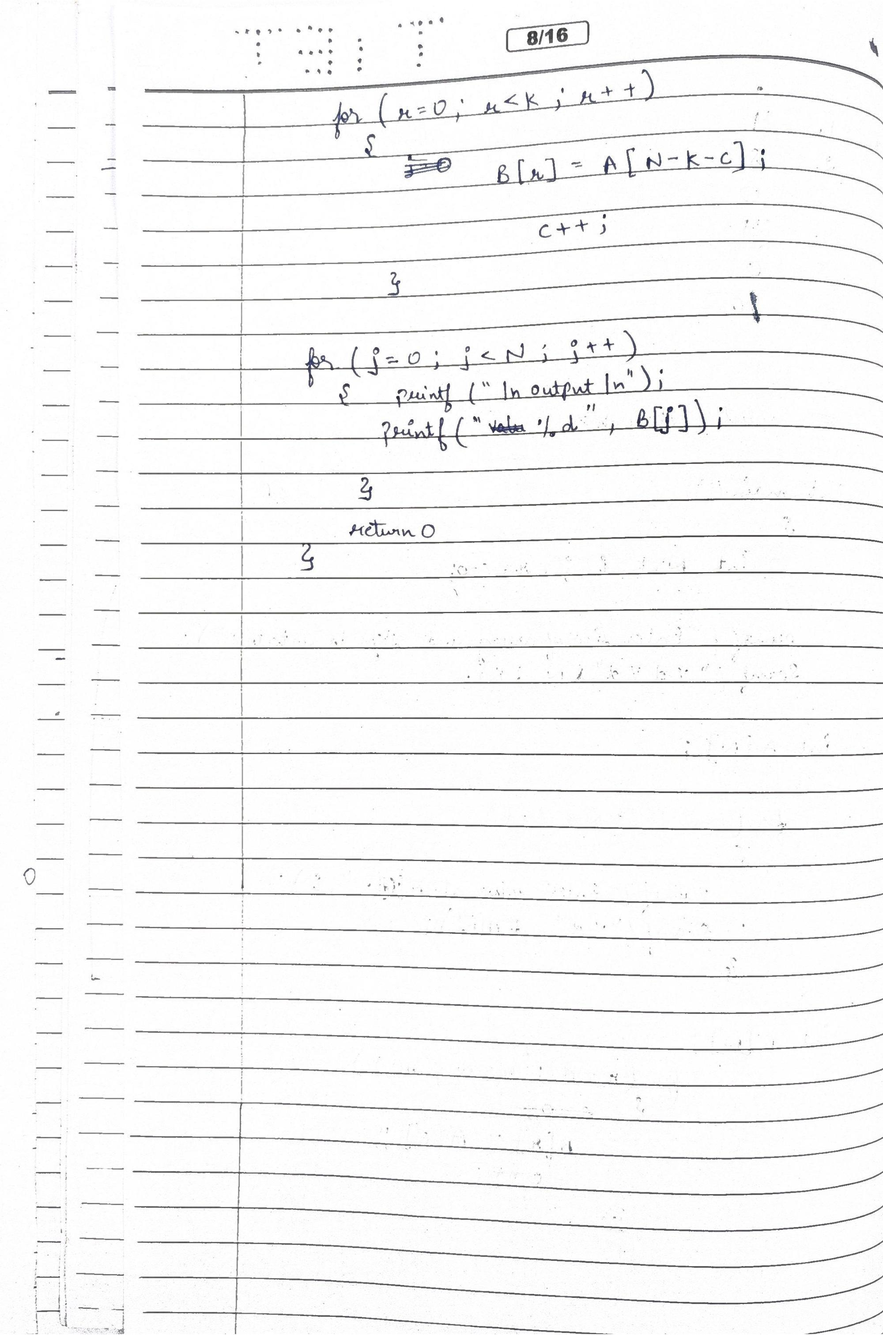cuttings: (405, 154, 454, 180), (487, 416, 526, 435)
